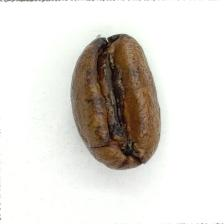NG: (84, 33, 144, 157)
